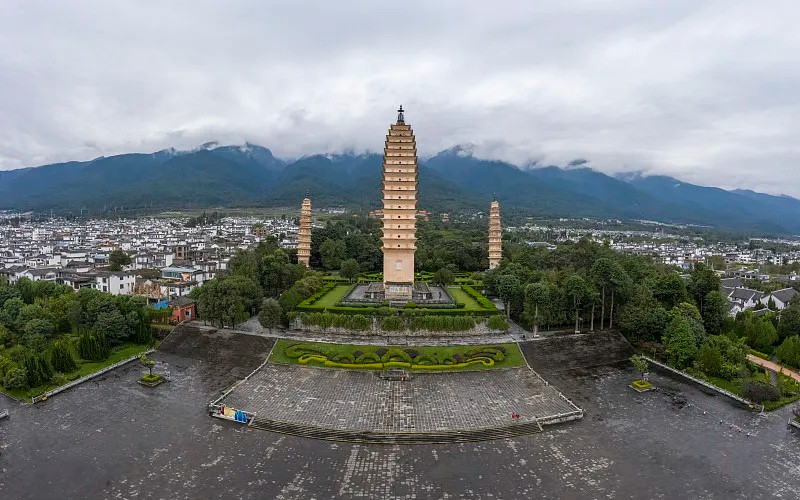ThreePagoda: (380, 103, 418, 289)
